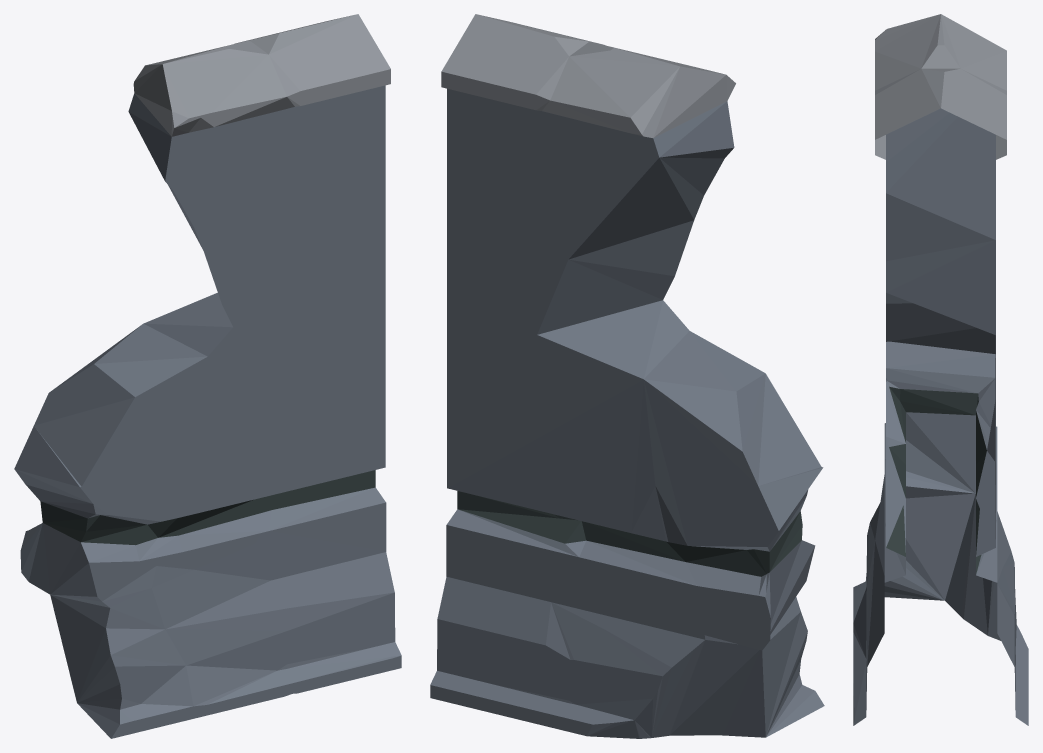
File: BrokenWall2.fbx
3 renders of one model, left to right at view 1: azimuth 30°, elevation 25°; view 2: azimuth 150°, elevation 25°; view 3: azimuth 270°, elevation 25°, orthographic. The views are drawn at different scales.
Visible parts, largest first — view 1: BrokenWall2; view 2: BrokenWall2; view 3: BrokenWall2.
Part boxes in pixels (bbox=[...]): BrokenWall2: bbox=[14, 14, 401, 738]; BrokenWall2: bbox=[430, 14, 824, 738]; BrokenWall2: bbox=[853, 14, 1028, 725].
Size of the model in its own units: 254 by 476 by 120.
